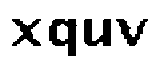q: (45, 17, 77, 60)
u: (79, 17, 114, 48)
v: (114, 16, 151, 47)
x: (8, 16, 43, 49)
